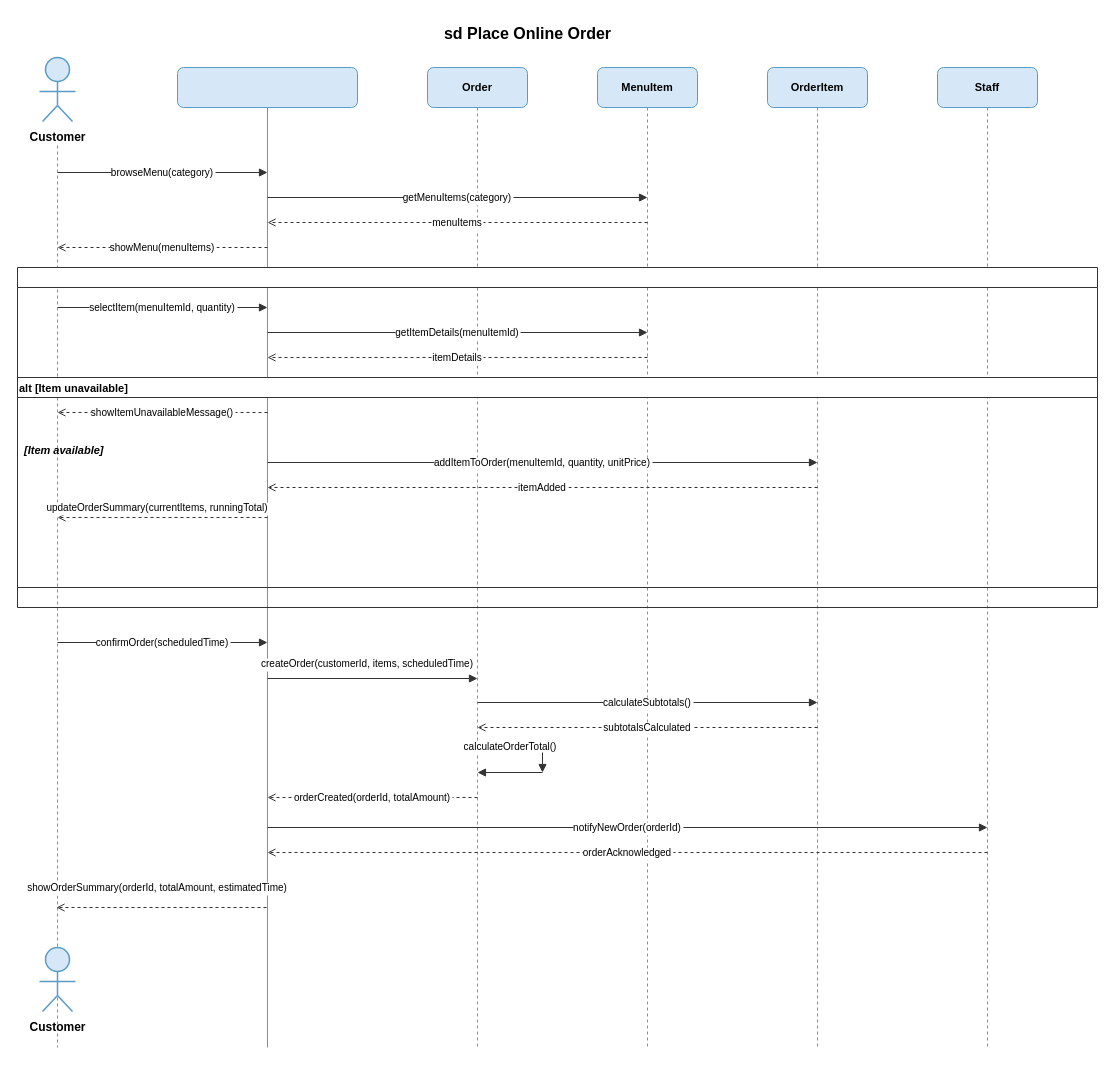
This 1115x1066 diagram has some shape labels left out. Here are the shapes that lost their labels. From the top down, the box of each, then its label:
(176, 66, 358, 108): Restaurant Ordering System
(16, 266, 1098, 608): loop [While customer is selecting items]
